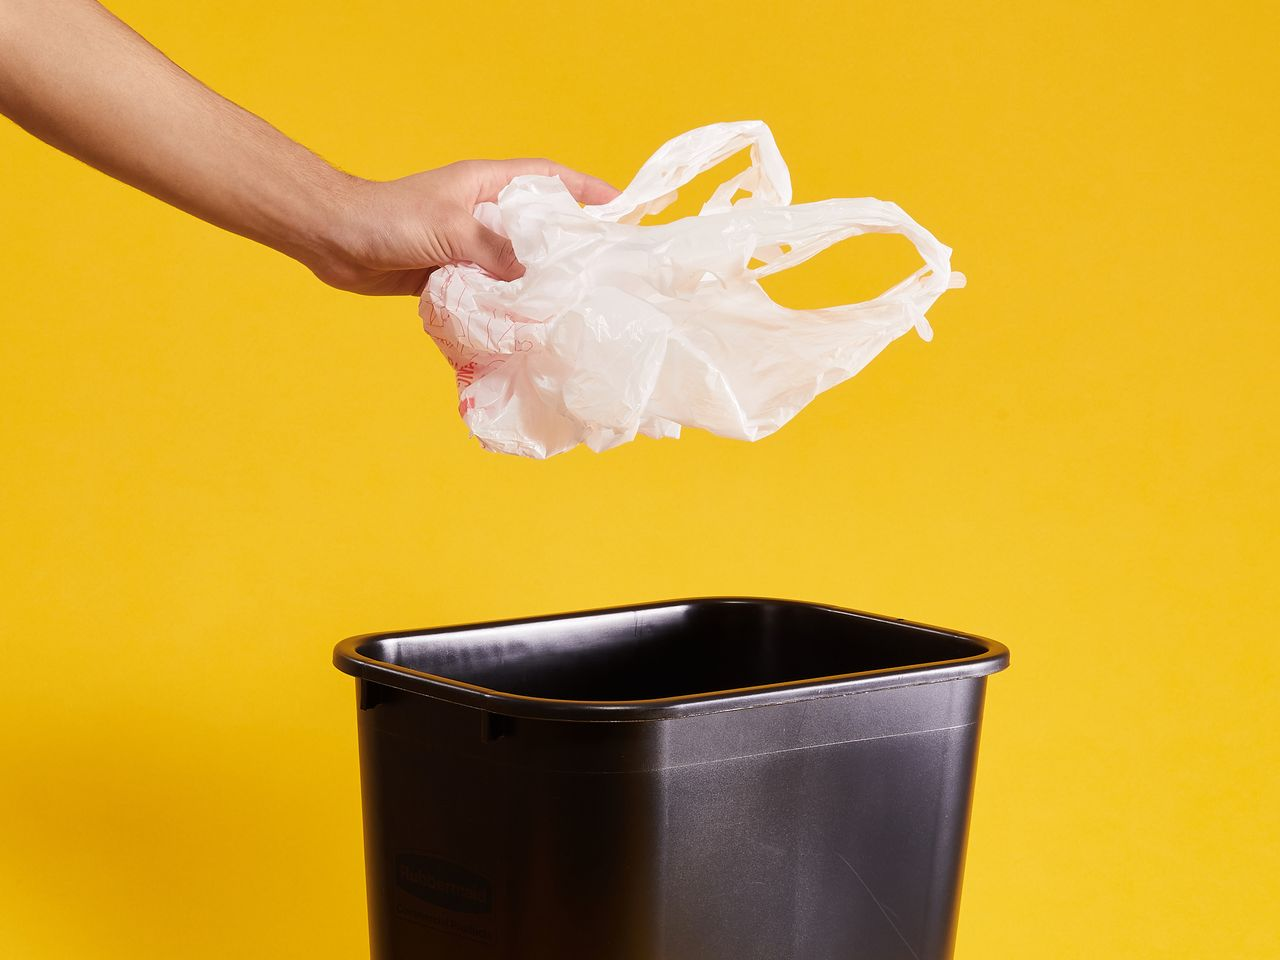plastic_bag: (407, 113, 975, 466)
